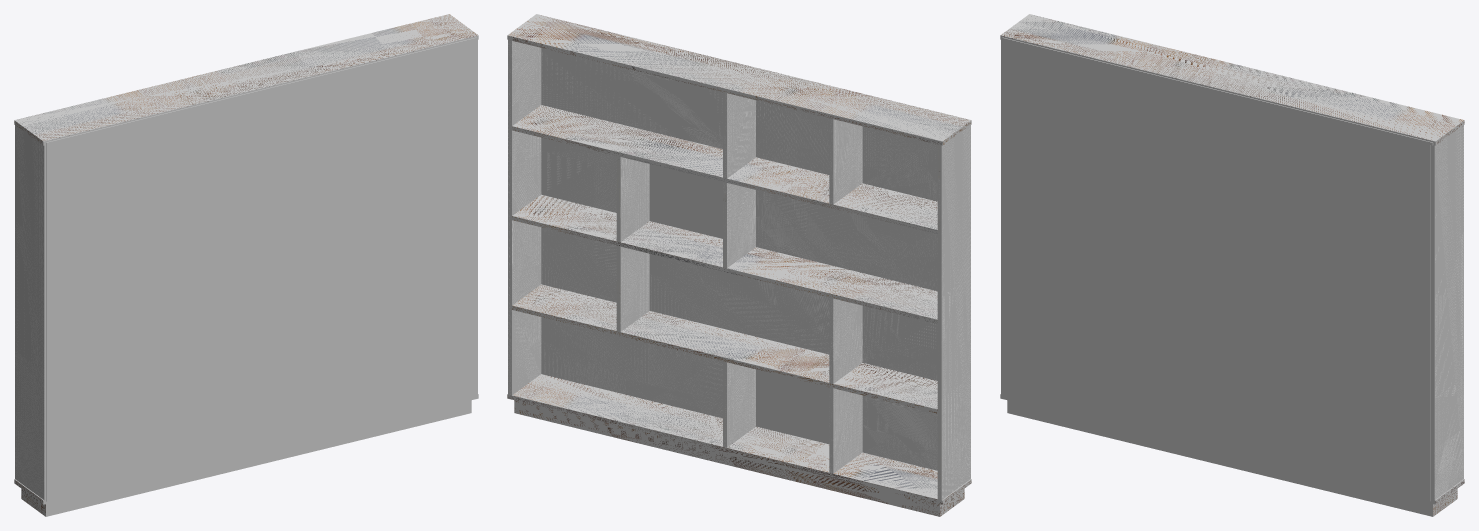
3 renders of one model, left to right at view 1: azimuth 30°, elevation 25°; view 2: azimuth 150°, elevation 25°; view 3: azimuth 330°, elevation 25°, orthographic.
Parts seen in each view (by area): view 1: mesh1_mesh1-geometry; view 2: mesh1_mesh1-geometry; view 3: mesh1_mesh1-geometry.
Part boxes in pixels (bbox=[...]): mesh1_mesh1-geometry: bbox=[14, 14, 478, 516]; mesh1_mesh1-geometry: bbox=[507, 14, 971, 516]; mesh1_mesh1-geometry: bbox=[1000, 14, 1464, 516].
Size of the model in its own units: 0.7661 by 0.6363 by 0.0904.
